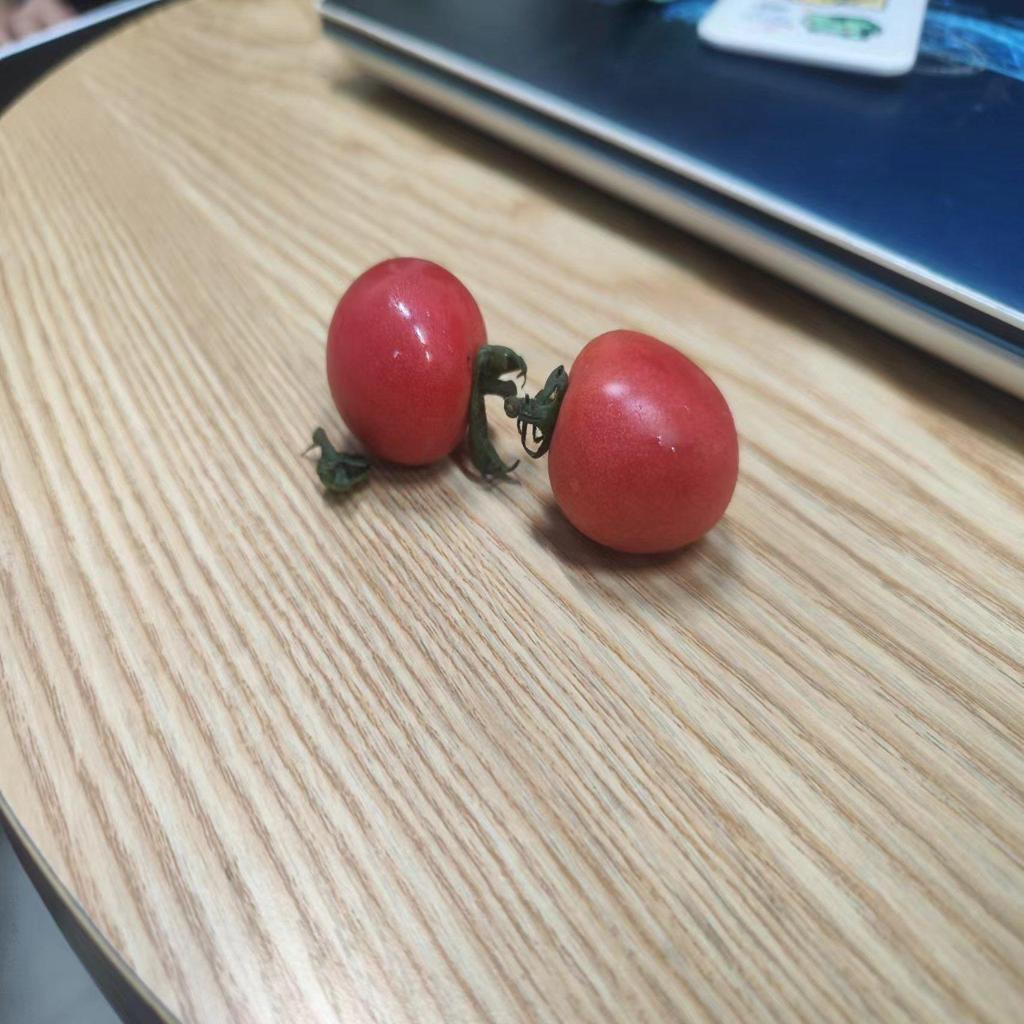tomato: (532, 327, 749, 556), (321, 263, 485, 476)
